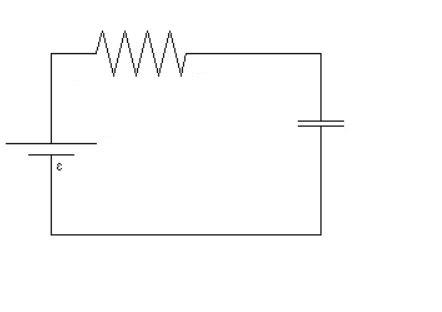resistor: (74, 15, 196, 86)
